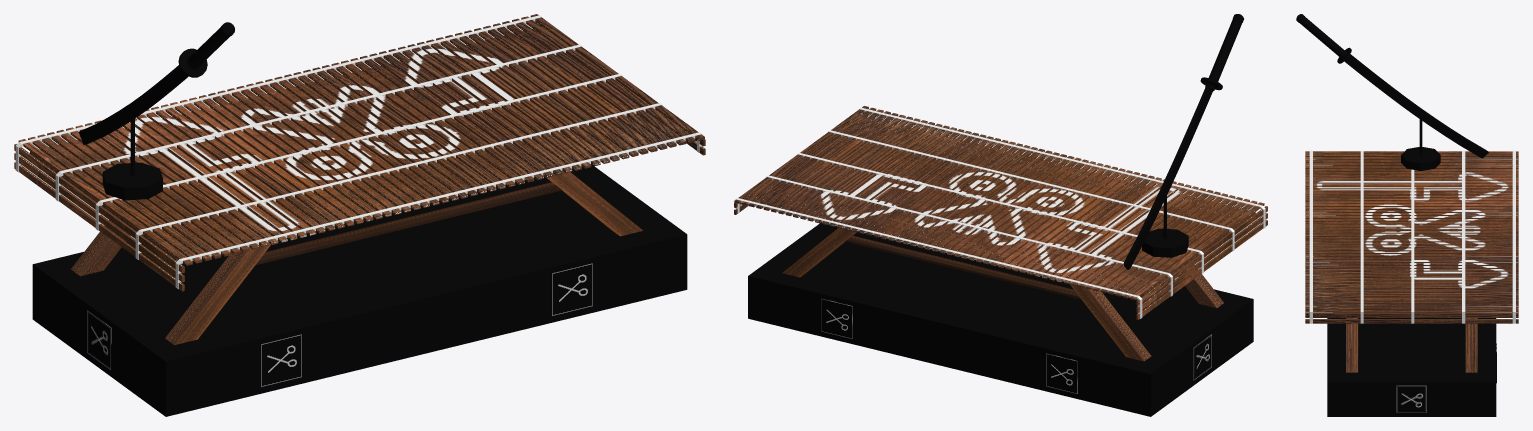
File: Troncator.fbx
3 renders of one model, left to right at view 1: azimuth 30°, elevation 25°; view 2: azimuth 150°, elevation 25°; view 3: azimuth 270°, elevation 25°, orthographic. The views are drawn at different scales.
Visible parts, largest first — view 1: Tapis1.001, Base, Cube.002, Tapis2.003, Logos, Cylinder, Cube.001, Katana; view 2: Tapis1.001, Base, Cube.002, Tapis2.003, Cylinder, Logos, Cube.001, Katana; view 3: Tapis1.001, Base, Tapis2.003, Cylinder, Cube.002, Logos, Katana.
Boxes of the visible parts, x1,y1,x2,y2 form: Tapis1.001: [14, 14, 705, 291]; Base: [32, 164, 687, 416]; Cube.002: [30, 26, 689, 344]; Tapis2.003: [15, 15, 702, 289]; Logos: [87, 263, 592, 386]; Cylinder: [78, 65, 188, 200]; Cube.001: [255, 182, 562, 265]; Katana: [178, 22, 234, 77]; Tapis1.001: [734, 106, 1267, 319]; Base: [748, 222, 1253, 416]; Cube.002: [745, 115, 1255, 361]; Tapis2.003: [735, 107, 1265, 318]; Cylinder: [1123, 84, 1212, 269]; Logos: [821, 298, 1211, 393]; Cube.001: [845, 235, 1081, 299]; Katana: [1200, 14, 1243, 91]; Tapis1.001: [1305, 151, 1518, 323]; Base: [1327, 318, 1496, 416]; Tapis2.003: [1309, 150, 1515, 323]; Cylinder: [1344, 54, 1488, 170]; Cube.002: [1346, 318, 1477, 372]; Logos: [1396, 343, 1496, 412]; Katana: [1296, 14, 1351, 63].
Size of the model in its own units: 360 by 208 by 262.
